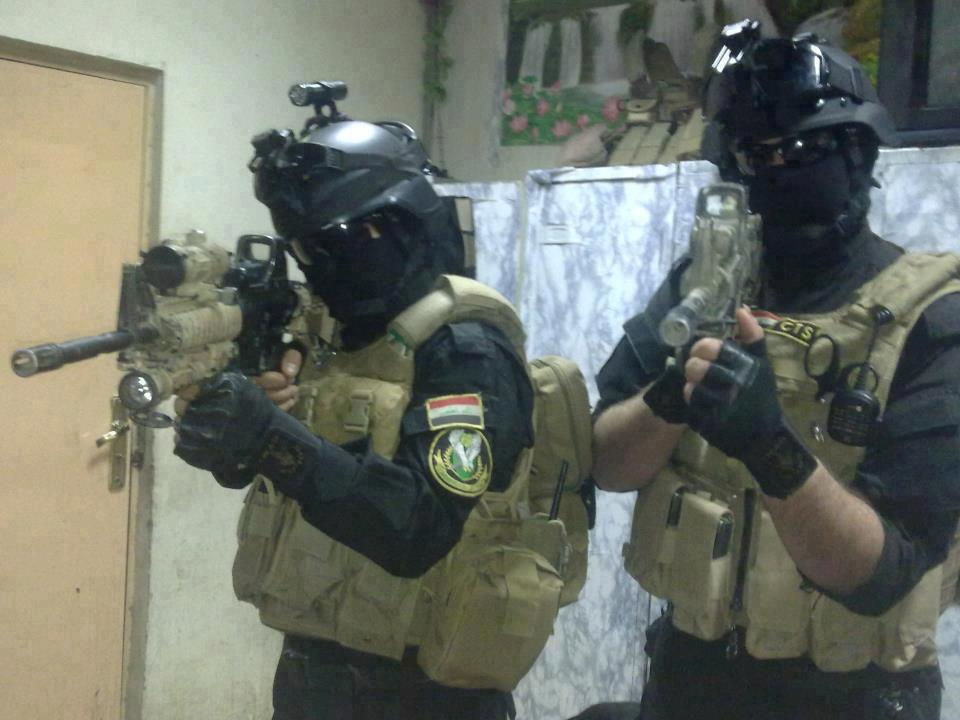Rifle: (8, 227, 340, 419), (655, 180, 767, 376)
